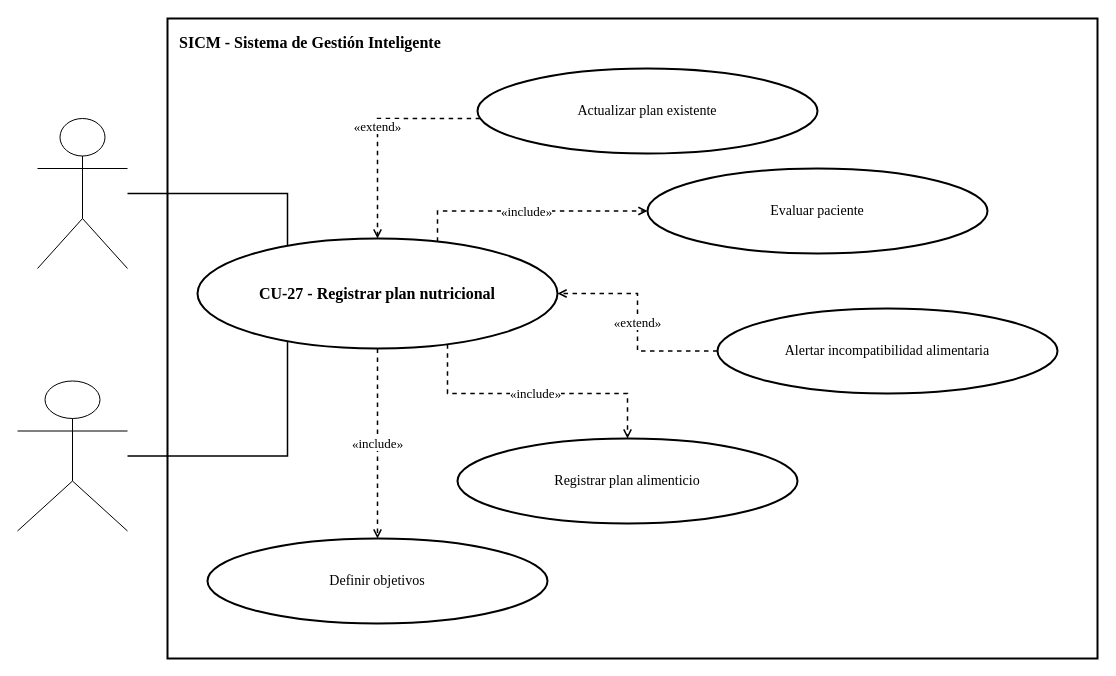
This 1116x676 diagram has some shape labels left out. Here are the shapes that lost their labels. From the top down, the box of each, then its label:
(36, 118, 128, 268): Nutricionista
(16, 380, 128, 531): Paciente
